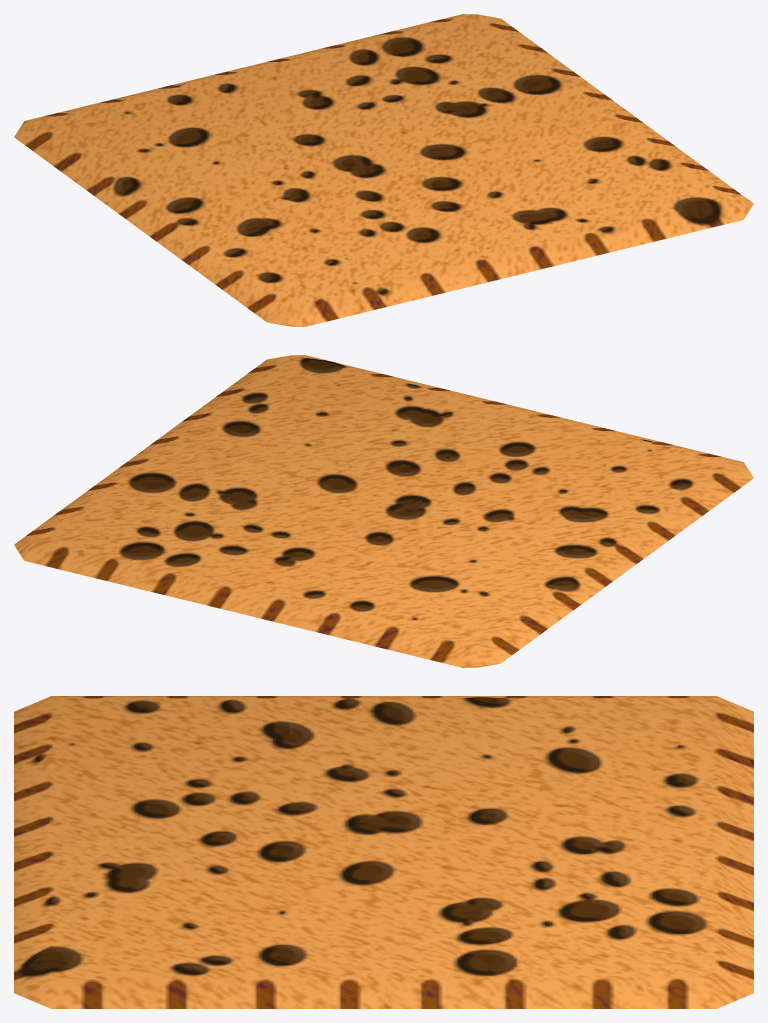
File: plattform_mittel.fbx
The picture shows the model from 3 angles, top to bottom: view 1: azimuth 30°, elevation 25°; view 2: azimuth 150°, elevation 25°; view 3: azimuth 270°, elevation 25°; orthographic projection. The views are drawn at different scales.
Visible parts, largest first — view 1: Cube; view 2: Cube; view 3: Cube.
Part boxes in pixels (left/top/right/bottom): Cube: left=14, top=14, right=753, bottom=326; Cube: left=14, top=355, right=753, bottom=667; Cube: left=14, top=696, right=753, bottom=1008.
Size of the model in its own units: 6 by 0.2381 by 6.
Materials: 1 (1 with a texture image).
